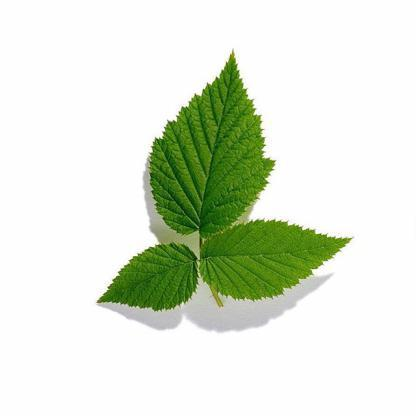Raspberry leaf: (144, 44, 280, 240), (197, 220, 355, 300), (92, 238, 206, 312)
